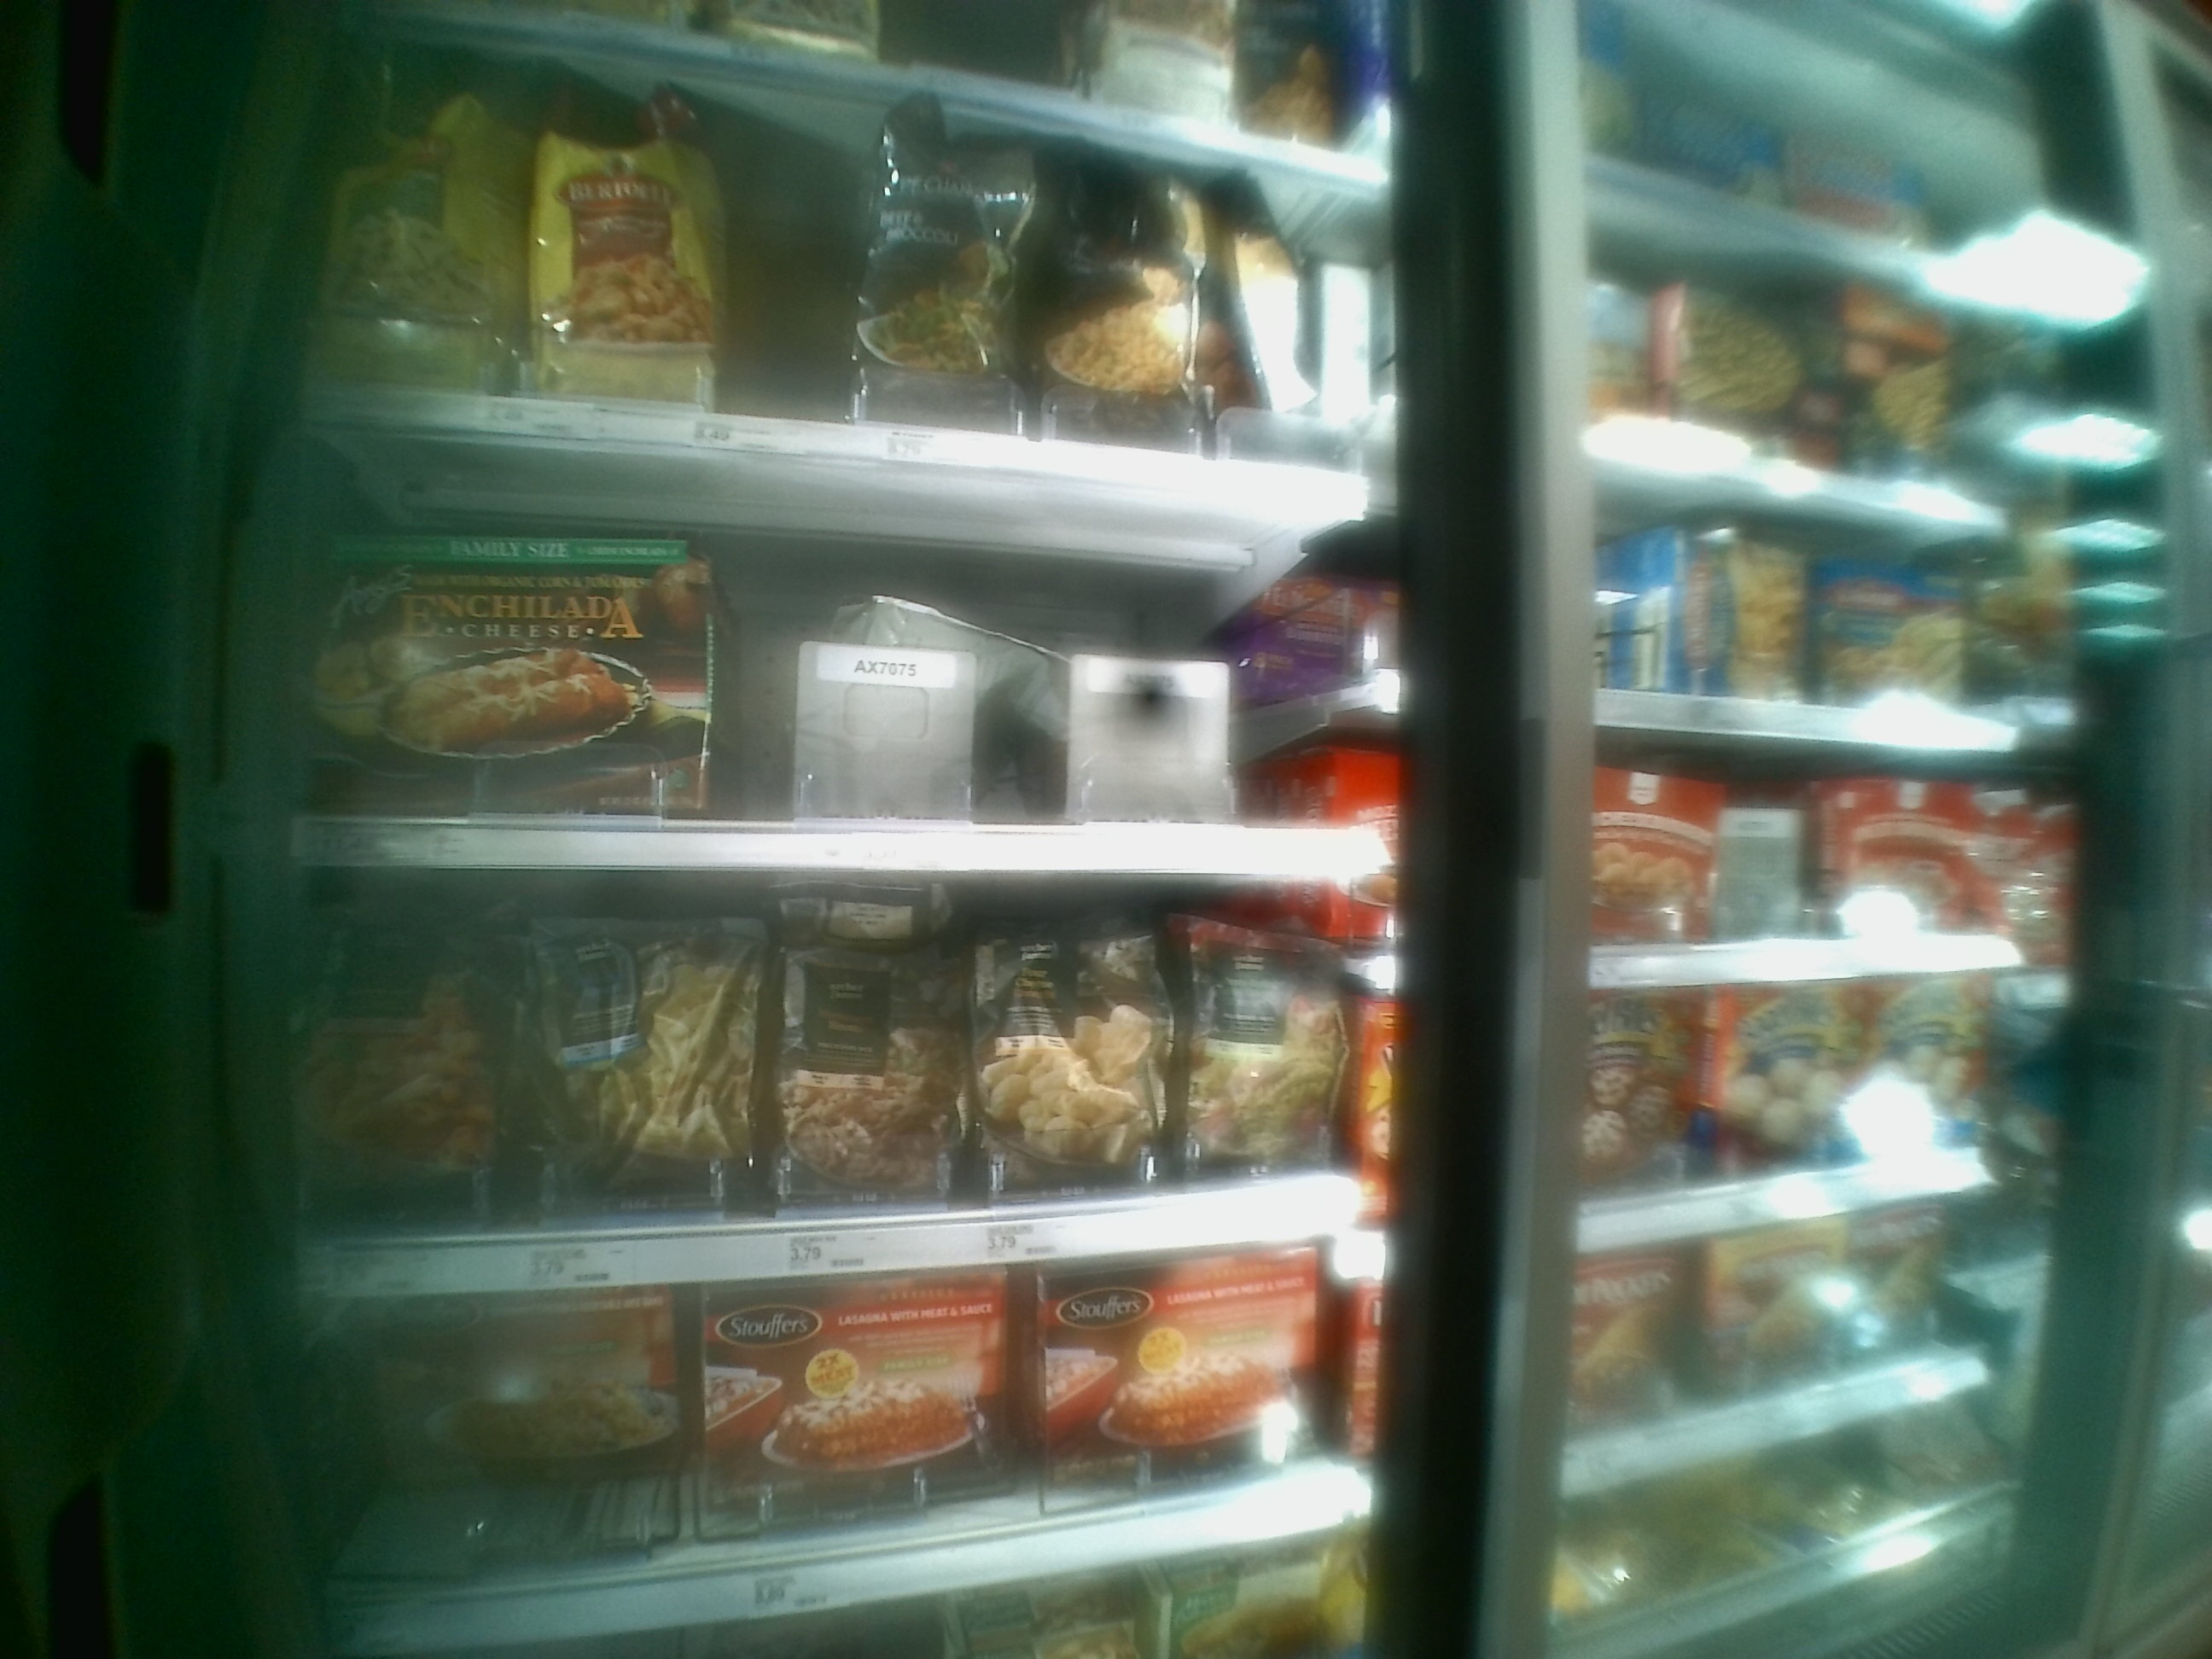shelf: (272, 434, 1362, 877), (284, 878, 1364, 1270)
